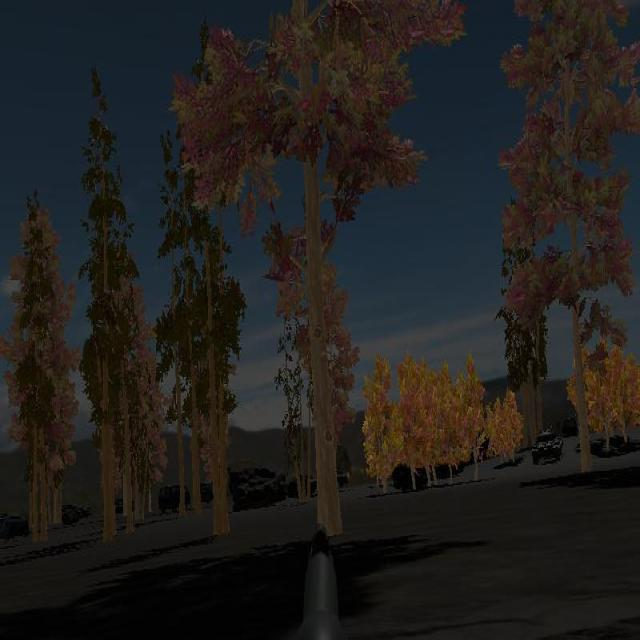Tank: (532, 426, 563, 464)
